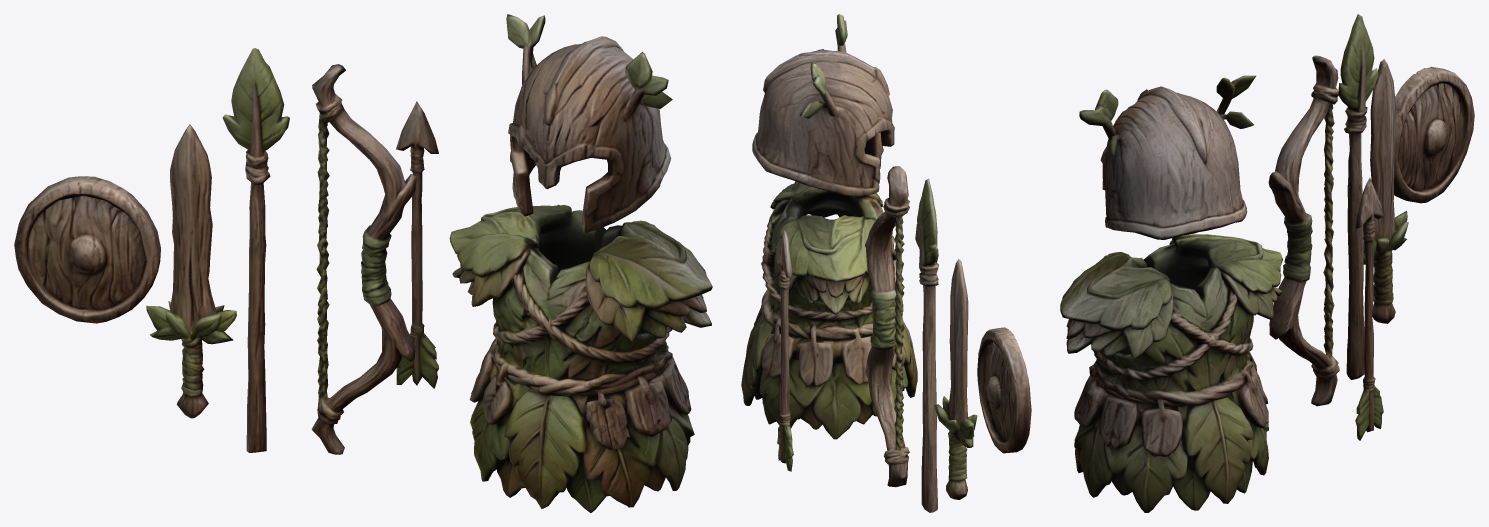
The model's file is armor_weapons.glb.
The picture shows the model from 3 angles, left to right: view 1: azimuth 30°, elevation 25°; view 2: azimuth 150°, elevation 25°; view 3: azimuth 270°, elevation 25°; orthographic projection. The views are drawn at different scales.
Visible parts, largest first — view 1: tripo_node_add0d5ce-ef58-4d77-a5d8-b93772cf16a0; view 2: tripo_node_add0d5ce-ef58-4d77-a5d8-b93772cf16a0; view 3: tripo_node_add0d5ce-ef58-4d77-a5d8-b93772cf16a0.
Boxes of the visible parts, left/top/right/bottom form: tripo_node_add0d5ce-ef58-4d77-a5d8-b93772cf16a0: left=14, top=14, right=712, bottom=512; tripo_node_add0d5ce-ef58-4d77-a5d8-b93772cf16a0: left=741, top=14, right=1031, bottom=512; tripo_node_add0d5ce-ef58-4d77-a5d8-b93772cf16a0: left=1060, top=14, right=1474, bottom=512.
Bounding box in the file's own units: 0.9798 × 0.8355 × 0.7841.
Materials: 1 (1 with a texture image).
